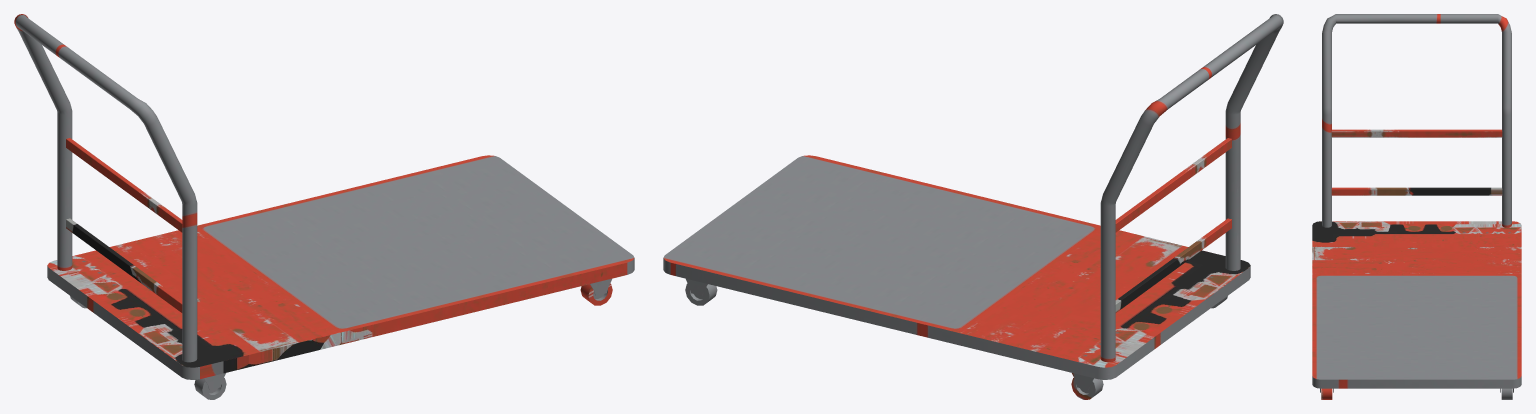
File: platform_trolley.glb
The picture shows the model from 3 angles, left to right: view 1: azimuth 30°, elevation 25°; view 2: azimuth 150°, elevation 25°; view 3: azimuth 270°, elevation 25°; orthographic projection. The views are drawn at different scales.
Parts seen in each view (by area): view 1: body; view 2: body; view 3: body.
Part boxes in pixels (<box>): body: <box>14,14,634,399</box>; body: <box>663,14,1283,399</box>; body: <box>1312,14,1521,399</box>.
Bounding box in the file's own units: 1.63 × 0.98 × 0.8292.
Materials: 1 (1 with a texture image).
